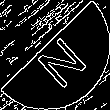N_NW: (24, 23, 86, 87)
